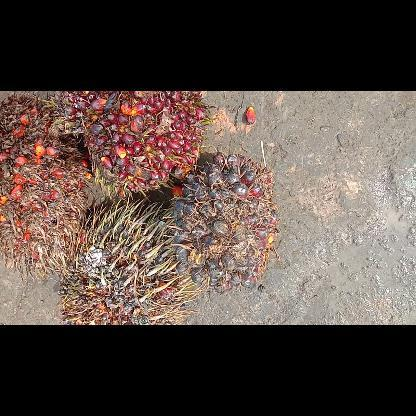TBS abnormal: (56, 198, 195, 324)
TBS masak: (61, 91, 207, 197)
TBS mentah: (174, 150, 278, 290)
Terlalu masak: (0, 90, 91, 276)
